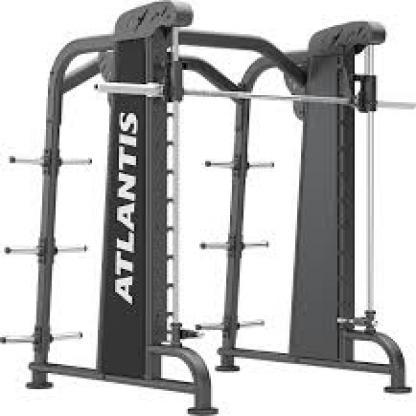smith machine: (3, 2, 410, 412)
